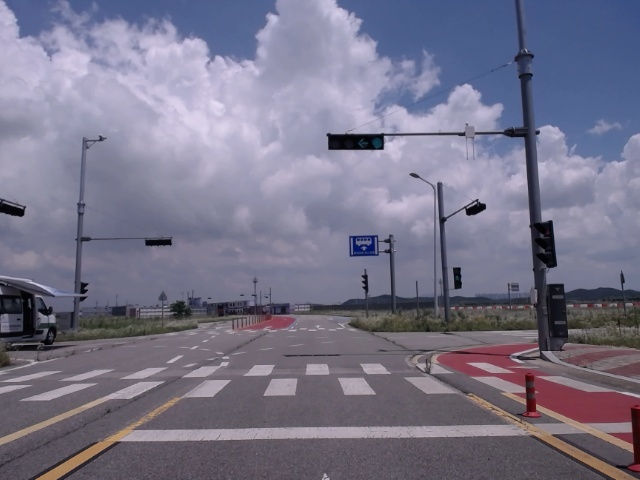all_green_4: (330, 136, 384, 150)
